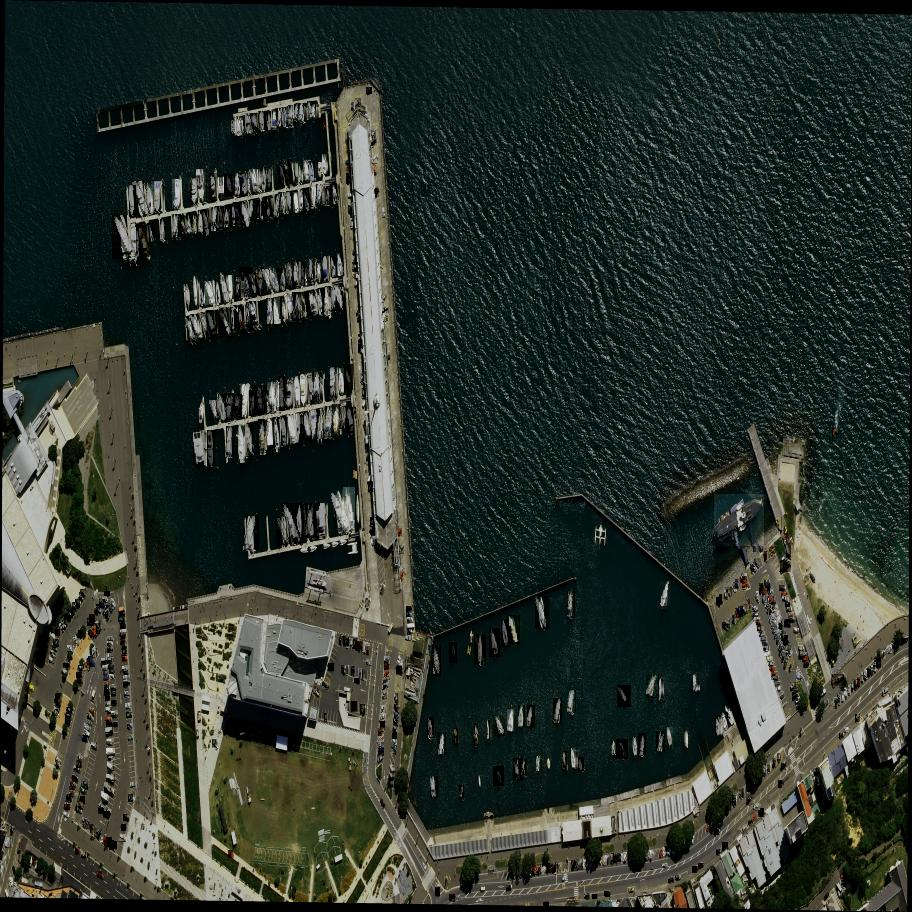large-vehicle: (830, 675, 848, 686), (103, 783, 114, 794), (779, 563, 792, 572), (100, 792, 111, 801), (693, 807, 702, 817), (786, 545, 792, 558), (105, 774, 116, 781), (855, 714, 863, 723), (388, 770, 395, 780), (365, 599, 372, 608), (105, 727, 114, 734), (96, 621, 102, 631), (372, 156, 379, 164), (778, 517, 782, 530), (799, 651, 807, 656), (839, 734, 845, 739), (107, 749, 113, 754), (106, 707, 111, 712), (765, 552, 767, 562), (111, 685, 116, 689), (391, 763, 393, 773), (101, 659, 107, 662), (845, 728, 849, 732), (650, 851, 652, 858), (111, 712, 115, 715), (108, 659, 112, 662), (123, 666, 126, 670)
ship: (707, 493, 772, 547), (112, 215, 137, 259), (330, 491, 353, 534), (282, 504, 303, 545), (131, 180, 152, 217), (127, 224, 145, 266), (343, 487, 356, 530), (193, 430, 208, 466), (245, 516, 260, 551), (535, 596, 550, 630), (219, 307, 235, 338), (284, 293, 300, 323), (305, 503, 318, 539), (252, 386, 268, 415), (276, 517, 292, 545), (137, 225, 151, 257), (239, 268, 253, 298), (475, 633, 488, 665), (196, 170, 208, 204), (184, 316, 199, 343), (249, 301, 263, 329), (285, 414, 298, 444), (293, 292, 306, 322), (190, 315, 205, 341), (198, 313, 213, 339), (509, 615, 522, 644), (267, 382, 279, 413), (153, 182, 165, 212), (244, 425, 255, 457), (617, 685, 633, 707), (315, 288, 328, 315), (660, 581, 673, 608), (291, 260, 303, 289), (324, 406, 335, 437), (172, 179, 183, 210), (240, 384, 250, 418), (301, 412, 313, 440), (249, 169, 263, 193), (219, 271, 229, 303), (317, 409, 326, 444), (269, 268, 282, 292), (206, 310, 218, 336), (204, 282, 217, 306), (489, 629, 500, 657), (646, 676, 660, 698), (272, 297, 283, 324), (145, 182, 154, 215), (225, 393, 235, 422), (262, 390, 274, 414), (272, 194, 284, 218), (307, 373, 316, 404), (248, 273, 260, 296), (723, 703, 735, 726), (493, 715, 506, 736), (318, 503, 326, 537), (314, 372, 323, 402), (283, 159, 293, 186), (262, 270, 274, 292), (335, 287, 346, 311), (285, 380, 294, 409), (501, 619, 510, 648), (344, 364, 354, 390), (553, 698, 563, 724), (241, 201, 251, 227), (567, 690, 578, 713), (224, 174, 235, 197), (219, 394, 228, 422), (233, 394, 243, 419), (226, 426, 234, 457), (300, 375, 308, 406), (310, 410, 318, 441), (433, 645, 441, 676), (279, 376, 286, 411), (208, 431, 215, 466), (203, 209, 212, 236), (209, 401, 221, 421), (281, 416, 289, 446), (437, 732, 447, 756), (209, 207, 219, 231), (303, 188, 313, 212), (172, 215, 182, 239), (238, 424, 244, 463), (258, 420, 265, 453), (514, 758, 524, 781), (234, 203, 244, 226), (240, 173, 250, 196), (617, 740, 629, 759), (281, 296, 289, 324), (286, 262, 294, 290), (267, 298, 275, 326), (177, 215, 188, 235), (339, 406, 348, 430), (302, 294, 311, 318), (310, 291, 319, 315), (568, 591, 576, 618), (245, 171, 254, 195), (209, 174, 217, 201), (316, 184, 326, 205), (239, 117, 249, 138), (246, 114, 256, 135), (494, 767, 505, 786), (251, 114, 262, 133), (507, 709, 516, 732), (527, 705, 536, 728), (216, 206, 225, 229), (333, 405, 340, 434), (346, 408, 354, 433), (334, 254, 344, 274), (275, 108, 285, 128), (274, 417, 280, 450), (191, 178, 198, 206), (638, 733, 646, 757), (222, 208, 232, 227), (146, 223, 156, 242), (656, 732, 665, 753), (280, 192, 289, 213), (303, 160, 312, 181), (294, 376, 300, 407), (280, 268, 288, 291), (234, 173, 242, 196), (330, 367, 336, 397), (308, 161, 317, 181), (234, 117, 243, 137), (129, 185, 135, 215), (291, 162, 299, 184), (238, 305, 245, 330), (193, 277, 199, 306), (330, 184, 339, 203), (184, 215, 193, 234), (337, 369, 344, 393), (309, 259, 316, 283), (322, 256, 329, 280), (332, 288, 339, 312), (236, 278, 244, 299), (450, 643, 458, 664), (431, 776, 439, 797), (283, 107, 291, 128), (288, 105, 296, 126), (666, 727, 674, 747), (286, 191, 294, 211), (278, 167, 286, 187), (296, 414, 301, 445), (519, 706, 526, 728), (299, 505, 303, 543), (259, 111, 267, 130), (300, 103, 308, 122), (260, 202, 270, 217), (428, 717, 435, 738), (271, 109, 278, 130), (160, 219, 167, 240), (246, 302, 251, 331), (185, 285, 191, 309), (228, 276, 234, 300), (572, 748, 579, 768), (191, 214, 198, 234), (293, 192, 300, 212), (215, 281, 221, 304), (198, 210, 204, 233), (249, 200, 255, 221), (307, 101, 314, 119), (323, 154, 329, 174), (261, 167, 266, 191), (536, 756, 543, 773), (295, 104, 302, 121), (259, 267, 263, 296), (693, 673, 699, 692), (330, 257, 336, 276), (721, 713, 728, 729), (325, 188, 331, 205), (231, 305, 235, 330), (302, 262, 306, 286), (267, 170, 272, 189), (578, 758, 585, 771), (523, 761, 529, 776), (256, 200, 261, 218), (313, 104, 319, 119), (474, 724, 478, 746), (317, 263, 322, 280), (326, 287, 329, 315), (201, 287, 205, 307), (563, 751, 567, 771), (313, 186, 317, 206), (267, 111, 271, 131), (459, 785, 465, 798), (612, 742, 618, 755), (250, 391, 253, 416), (659, 678, 662, 701), (454, 728, 458, 745), (633, 737, 636, 756), (487, 721, 490, 740), (717, 718, 720, 736), (232, 206, 235, 224), (268, 199, 271, 217), (300, 191, 303, 209), (832, 429, 838, 436), (485, 813, 492, 819), (322, 119, 326, 129), (319, 163, 322, 176), (471, 629, 473, 640), (232, 121, 234, 132), (684, 729, 685, 747), (300, 166, 301, 182)
small-vehicle: (92, 623, 102, 634), (746, 795, 755, 807), (575, 859, 584, 870), (54, 693, 63, 704), (106, 761, 116, 770), (94, 829, 103, 839), (61, 811, 72, 819), (362, 641, 369, 653), (367, 481, 374, 493), (879, 651, 888, 660), (98, 802, 107, 811), (531, 866, 540, 875), (549, 863, 557, 873), (545, 864, 553, 874), (89, 615, 97, 625), (352, 263, 360, 273), (787, 650, 795, 660), (792, 692, 800, 702), (790, 682, 798, 692), (541, 864, 548, 875), (355, 99, 363, 108), (384, 656, 392, 665), (360, 704, 366, 716), (118, 834, 127, 842), (722, 842, 730, 851), (606, 855, 614, 864), (881, 688, 890, 696), (379, 713, 388, 721), (377, 755, 385, 764), (377, 749, 386, 757), (79, 796, 87, 805), (62, 667, 70, 676), (52, 639, 60, 648), (87, 630, 95, 639), (64, 613, 72, 622), (370, 139, 379, 147), (725, 587, 733, 596), (734, 609, 742, 618), (774, 630, 782, 639), (809, 574, 817, 583), (326, 664, 336, 671), (84, 819, 91, 829), (623, 852, 630, 862), (394, 699, 401, 709), (49, 654, 56, 664), (360, 373, 367, 383), (571, 861, 578, 871), (769, 614, 776, 624), (779, 646, 786, 656), (356, 641, 362, 652), (106, 837, 112, 848), (619, 853, 625, 864), (853, 679, 859, 690), (88, 708, 96, 716), (396, 661, 404, 669), (395, 667, 403, 675), (758, 809, 766, 817), (886, 645, 894, 653), (449, 894, 457, 902), (75, 760, 83, 768), (98, 600, 106, 608), (76, 678, 84, 686), (63, 718, 71, 726), (5, 740, 13, 748), (86, 619, 94, 627), (80, 590, 88, 598), (381, 294, 388, 303), (321, 682, 330, 689), (102, 812, 111, 819), (740, 825, 747, 834), (615, 854, 622, 863), (384, 662, 391, 671), (810, 771, 817, 780), (753, 803, 762, 810), (380, 719, 387, 728), (382, 690, 389, 699), (382, 678, 391, 685), (88, 656, 95, 665), (61, 616, 68, 625), (370, 530, 377, 539), (740, 605, 747, 614), (762, 594, 769, 603), (783, 642, 790, 651), (774, 611, 781, 620), (783, 620, 792, 627), (371, 130, 377, 140), (351, 701, 357, 711), (98, 832, 104, 842), (611, 854, 617, 864), (876, 658, 882, 668), (392, 725, 398, 735), (434, 887, 440, 897), (6, 838, 12, 848), (58, 623, 64, 633), (73, 637, 79, 647), (738, 606, 744, 616), (787, 645, 793, 655), (366, 87, 374, 94), (366, 659, 373, 667), (382, 307, 390, 314), (81, 782, 89, 789), (86, 720, 94, 727), (379, 735, 386, 743), (378, 728, 385, 736), (392, 719, 399, 727), (126, 712, 134, 719), (77, 802, 85, 809), (68, 791, 76, 798), (63, 805, 71, 812), (71, 775, 79, 782), (102, 611, 109, 619), (121, 655, 129, 662), (65, 708, 73, 715), (2, 756, 10, 763), (54, 763, 61, 771), (71, 603, 78, 611), (67, 609, 74, 617), (8, 730, 16, 737), (352, 271, 359, 279), (361, 669, 366, 680), (537, 864, 542, 875), (781, 651, 786, 662), (109, 841, 115, 850), (92, 649, 98, 658), (75, 599, 81, 608), (747, 783, 753, 792), (645, 851, 651, 860), (768, 589, 774, 598), (354, 639, 359, 649), (663, 846, 668, 856), (733, 796, 738, 806), (772, 758, 777, 768), (582, 859, 587, 869), (388, 778, 393, 788), (111, 598, 116, 608), (732, 582, 737, 592), (759, 584, 764, 594), (840, 692, 845, 702), (399, 547, 406, 554), (86, 713, 93, 720), (781, 764, 788, 771), (66, 795, 73, 802), (51, 709, 58, 716), (54, 630, 61, 637), (369, 526, 376, 533), (764, 581, 771, 588), (792, 688, 799, 695), (795, 674, 802, 681), (400, 566, 406, 574), (400, 572, 406, 580), (127, 795, 135, 801), (120, 825, 128, 831), (84, 723, 90, 731), (212, 739, 218, 747), (97, 809, 105, 815), (398, 656, 404, 664), (381, 706, 387, 714), (394, 693, 400, 701), (391, 746, 397, 754), (84, 663, 90, 671), (55, 755, 61, 763), (360, 106, 368, 112), (774, 605, 780, 613), (754, 558, 760, 566), (324, 713, 329, 722), (113, 841, 118, 850), (603, 856, 608, 865), (394, 705, 399, 714), (9, 877, 14, 886), (75, 634, 80, 643), (370, 517, 375, 526), (362, 389, 367, 398), (660, 847, 664, 858), (346, 173, 350, 184), (123, 814, 129, 821), (227, 851, 234, 857), (692, 867, 699, 873), (841, 881, 847, 888), (383, 684, 389, 691), (384, 671, 391, 677), (391, 740, 397, 747), (70, 780, 76, 787), (121, 645, 128, 651), (66, 646, 73, 652), (77, 666, 84, 672), (722, 623, 728, 630), (772, 626, 778, 633), (359, 641, 364, 649), (358, 669, 362, 679), (398, 528, 403, 536), (104, 838, 109, 846), (777, 753, 782, 761), (394, 713, 399, 721), (78, 630, 83, 638), (62, 620, 66, 630), (63, 664, 71, 669), (716, 598, 721, 606), (762, 588, 767, 596), (779, 640, 783, 650), (784, 636, 788, 646), (857, 677, 861, 687), (750, 565, 755, 573), (346, 637, 350, 646), (342, 665, 346, 674), (376, 188, 380, 197), (748, 820, 754, 826), (767, 763, 771, 772), (740, 788, 744, 797), (128, 735, 134, 741), (833, 698, 837, 707), (65, 801, 71, 807), (104, 591, 110, 597), (52, 646, 58, 652), (803, 663, 809, 669), (724, 590, 728, 599), (777, 636, 781, 645), (777, 614, 781, 623), (769, 598, 775, 604), (351, 639, 356, 646), (97, 871, 102, 878), (392, 734, 397, 741), (75, 847, 80, 854), (108, 605, 113, 612), (94, 608, 99, 615), (102, 833, 105, 844), (554, 863, 557, 874), (343, 636, 347, 644), (33, 857, 37, 865), (372, 537, 376, 545), (406, 635, 412, 640), (382, 207, 385, 217), (592, 894, 598, 899), (105, 606, 108, 616), (104, 692, 110, 697), (50, 649, 55, 655), (719, 594, 722, 604), (785, 602, 791, 607), (780, 585, 785, 591), (802, 657, 808, 662), (771, 671, 777, 676), (769, 666, 775, 671), (766, 657, 772, 662), (359, 346, 363, 353), (817, 777, 820, 786), (763, 765, 766, 774), (93, 627, 96, 636), (779, 621, 782, 630), (753, 562, 756, 571), (107, 739, 112, 744), (92, 743, 97, 748), (113, 723, 118, 728), (105, 696, 110, 701), (75, 766, 80, 771), (125, 703, 130, 708), (107, 653, 112, 658), (123, 676, 128, 681), (76, 672, 81, 677), (759, 632, 764, 637), (799, 646, 804, 651), (741, 577, 746, 582), (543, 902, 549, 906), (107, 637, 113, 641), (124, 682, 130, 686), (727, 620, 730, 628), (756, 592, 759, 600), (766, 599, 769, 607), (772, 677, 778, 681), (350, 219, 353, 226), (378, 742, 381, 749), (82, 787, 85, 794), (96, 605, 99, 612), (340, 635, 342, 645), (407, 607, 411, 612), (381, 583, 383, 593), (82, 736, 86, 741), (130, 783, 134, 788), (105, 717, 110, 721), (629, 888, 634, 892), (507, 885, 511, 890), (70, 787, 75, 791), (121, 633, 126, 637), (120, 624, 125, 628), (119, 618, 124, 622), (105, 686, 109, 691), (102, 666, 107, 670), (109, 669, 113, 674), (66, 714, 71, 718), (873, 662, 875, 672), (668, 878, 672, 883), (782, 592, 787, 596), (789, 613, 794, 617), (783, 596, 787, 601), (861, 673, 863, 683), (765, 652, 770, 656), (775, 682, 780, 686), (768, 662, 773, 666), (778, 782, 781, 788), (83, 817, 85, 826), (78, 755, 81, 761), (867, 668, 869, 677), (864, 670, 866, 679), (760, 638, 766, 641), (772, 620, 774, 629), (662, 863, 666, 867), (675, 876, 679, 880), (815, 768, 817, 776), (605, 892, 609, 896), (585, 894, 589, 898), (120, 629, 124, 633), (87, 658, 89, 666), (120, 612, 124, 616), (109, 664, 113, 668), (103, 596, 107, 600), (349, 205, 351, 213), (732, 616, 734, 624), (780, 625, 782, 633), (848, 686, 850, 694), (773, 601, 775, 609), (741, 574, 745, 578), (108, 756, 113, 759), (107, 723, 112, 726), (715, 830, 718, 835), (902, 638, 907, 641), (354, 679, 359, 682), (77, 807, 80, 812), (82, 852, 85, 857), (108, 647, 113, 650), (121, 640, 126, 643), (755, 617, 760, 620), (794, 629, 799, 632), (764, 646, 769, 649), (351, 103, 353, 110), (346, 704, 348, 711), (384, 314, 386, 321), (80, 592, 82, 599), (359, 335, 361, 342), (358, 314, 360, 321), (768, 584, 770, 591), (345, 667, 347, 673), (407, 629, 410, 633), (698, 864, 702, 867), (754, 815, 756, 821), (123, 651, 127, 654), (105, 681, 108, 685), (743, 585, 746, 589), (10, 824, 11, 834), (844, 688, 845, 698), (851, 684, 853, 689), (407, 613, 410, 616), (108, 642, 111, 645), (106, 703, 109, 706), (758, 628, 761, 631), (787, 608, 790, 611), (408, 618, 412, 620), (112, 701, 116, 703), (717, 851, 719, 855), (125, 693, 127, 697), (736, 580, 737, 588), (791, 618, 795, 620), (352, 669, 353, 676), (91, 825, 92, 832), (838, 695, 839, 702), (127, 724, 129, 727), (109, 675, 112, 677), (770, 609, 771, 615), (753, 607, 756, 609), (782, 635, 783, 641), (757, 623, 760, 625), (367, 650, 367, 655), (871, 666, 871, 674)
